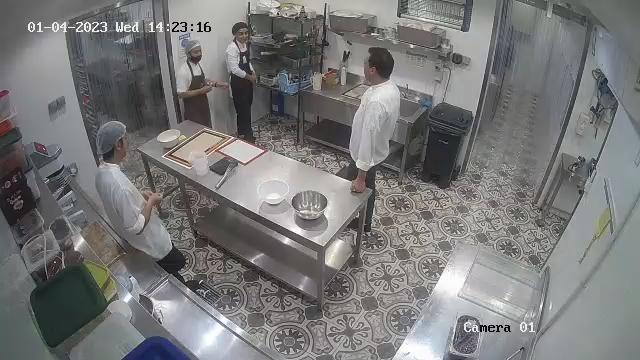apron: (185, 64, 213, 121), (230, 46, 256, 104)
no_apron: (113, 168, 166, 256)
